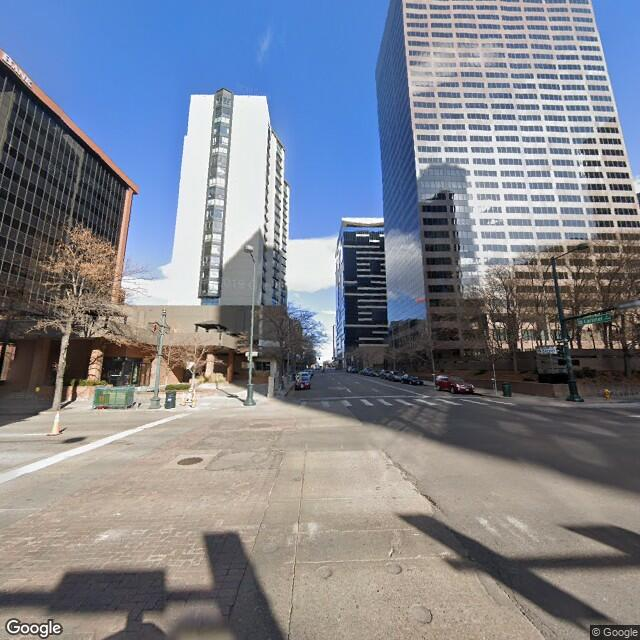fh: (600, 387, 615, 402)
lamp: (238, 242, 270, 411)
